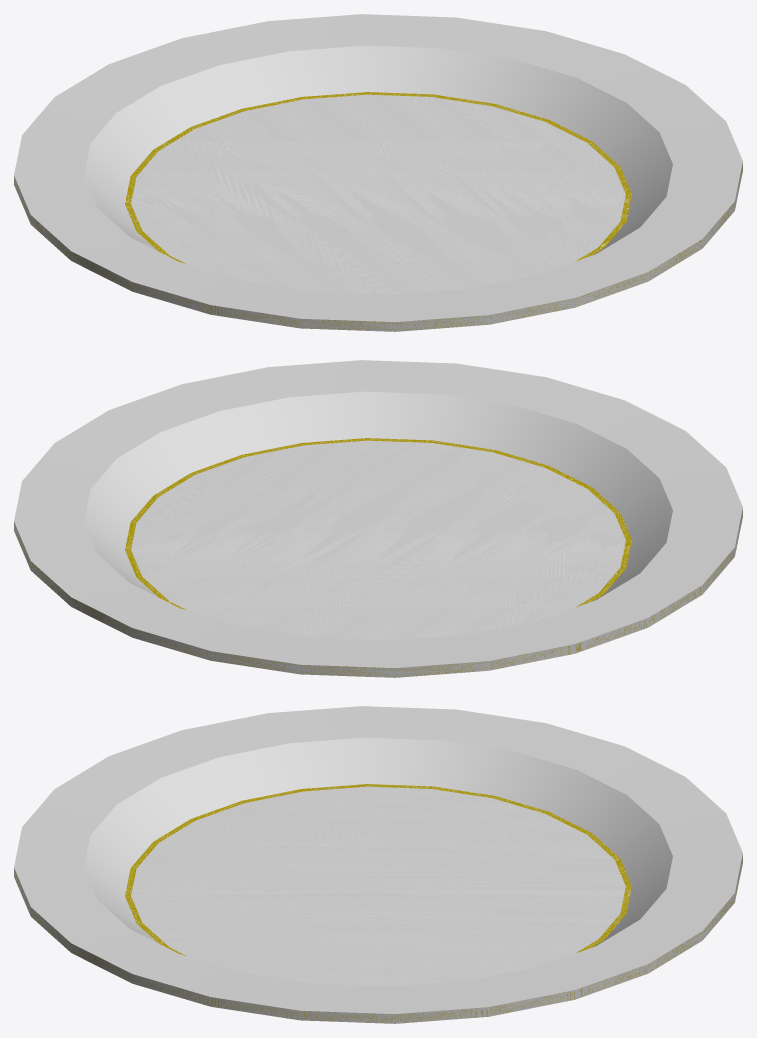
The model's file is plate_1.dae.
The picture shows the model from 3 angles, top to bottom: view 1: azimuth 30°, elevation 25°; view 2: azimuth 150°, elevation 25°; view 3: azimuth 270°, elevation 25°; orthographic projection.
Parts seen in each view (by area): view 1: instance_0_001, instance_0_005, instance_0_002, instance_0_003; view 2: instance_0_001, instance_0_005, instance_0_002, instance_0_003; view 3: instance_0_001, instance_0_005, instance_0_002, instance_0_003.
Boxes of the visible parts, box(x1,y1,x2,y2) form: instance_0_001: box(14, 14, 742, 322); instance_0_005: box(131, 94, 625, 294); instance_0_002: box(14, 162, 742, 331); instance_0_003: box(125, 92, 631, 263); instance_0_001: box(14, 360, 742, 668); instance_0_005: box(131, 440, 625, 640); instance_0_002: box(14, 508, 742, 677); instance_0_003: box(125, 438, 631, 609); instance_0_001: box(14, 706, 742, 1014); instance_0_005: box(131, 786, 625, 986); instance_0_002: box(14, 854, 742, 1023); instance_0_003: box(125, 784, 631, 955).
Bounding box in the file's own units: 0.3224 × 0.3224 × 0.0199.
